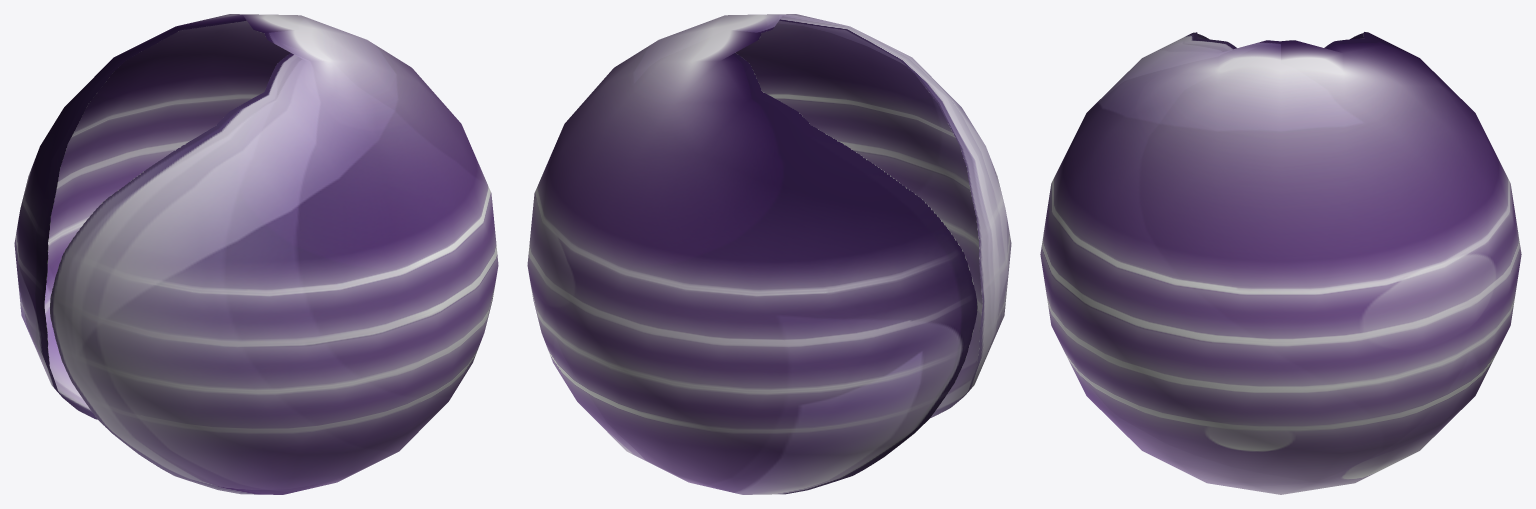
File: eclipse.obj
3 views of the same model, side by side, from view 1: azimuth 30°, elevation 25°; view 2: azimuth 150°, elevation 25°; view 3: azimuth 270°, elevation 25° (orthographic).
Visible parts, largest first — view 1: GeoSphere001; view 2: GeoSphere001; view 3: GeoSphere001.
Boxes of the visible parts, left/top/right/bottom form: GeoSphere001: left=14, top=14, right=498, bottom=494; GeoSphere001: left=527, top=14, right=1011, bottom=494; GeoSphere001: left=1040, top=32, right=1521, bottom=494.
Size of the model in its own units: 23.4 by 23.4 by 23.4.
Materials: 1 (1 with a texture image).
